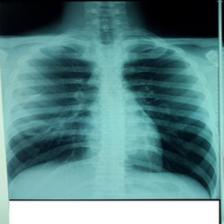tuberculosis: (4, 34, 220, 199)
